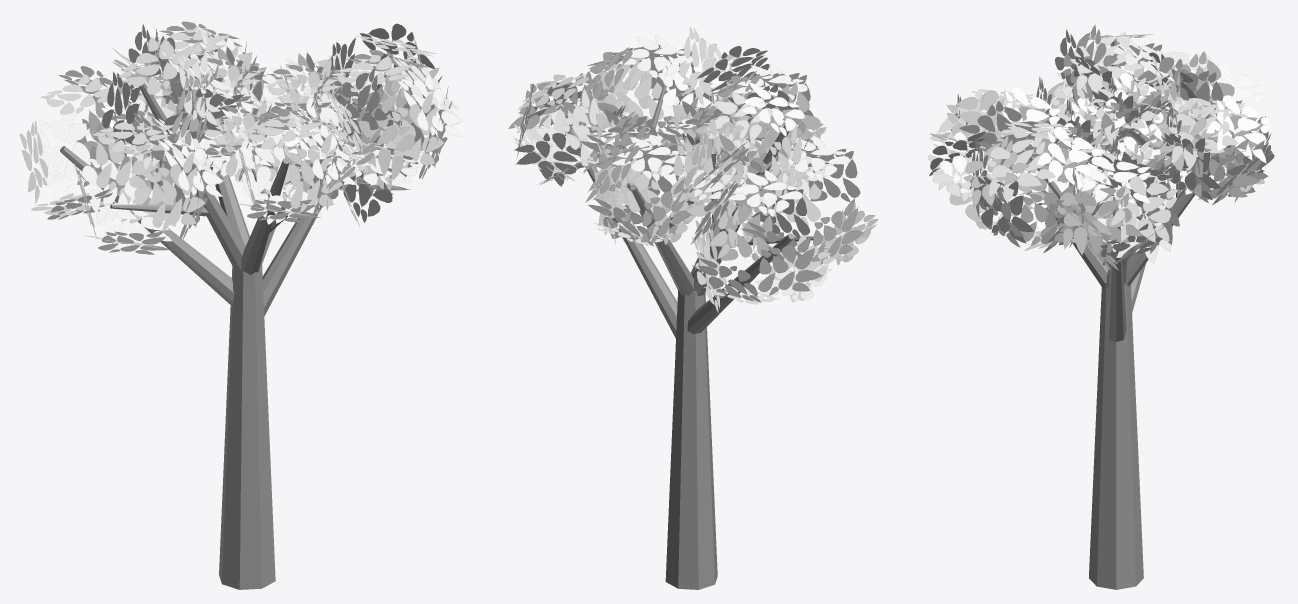
The model's file is SM_SakuraTree.fbx.
3 views of the same model, side by side, from view 1: azimuth 30°, elevation 25°; view 2: azimuth 150°, elevation 25°; view 3: azimuth 270°, elevation 25° (orthographic). The views are drawn at different scales.
Parts seen in each view (by area): view 1: SM_SakuraTree; view 2: SM_SakuraTree; view 3: SM_SakuraTree.
Boxes of the visible parts, x1,y1,x2,y2 form: SM_SakuraTree: (19,21,462,589); SM_SakuraTree: (508,26,878,589); SM_SakuraTree: (927,24,1274,589).
Bounding box in the file's own units: 466 × 633 × 401.
